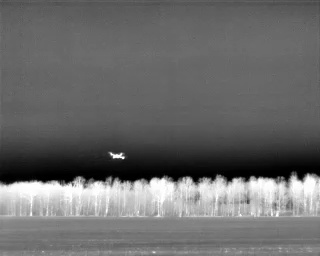DRONE: (105, 148, 130, 165)
